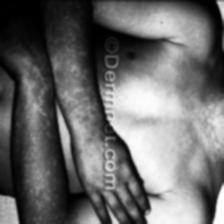Toxin: (21, 79, 58, 224), (58, 0, 98, 114)
